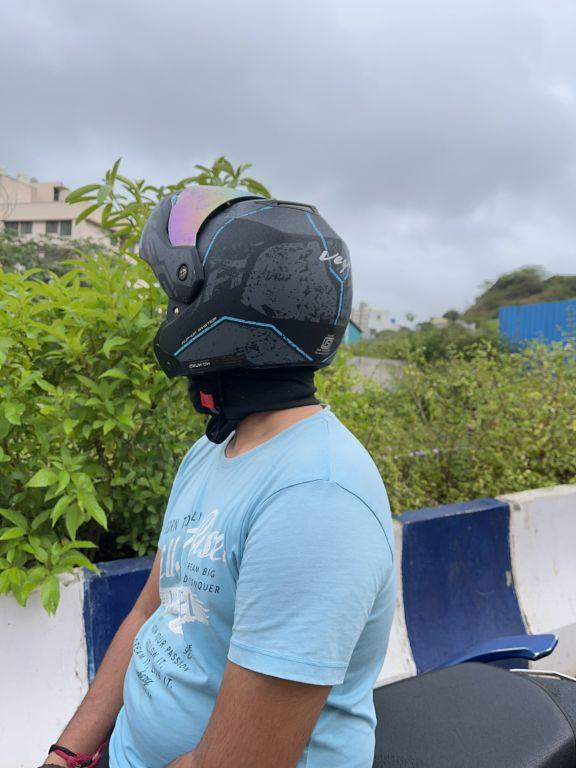helmet: (127, 169, 360, 434)
